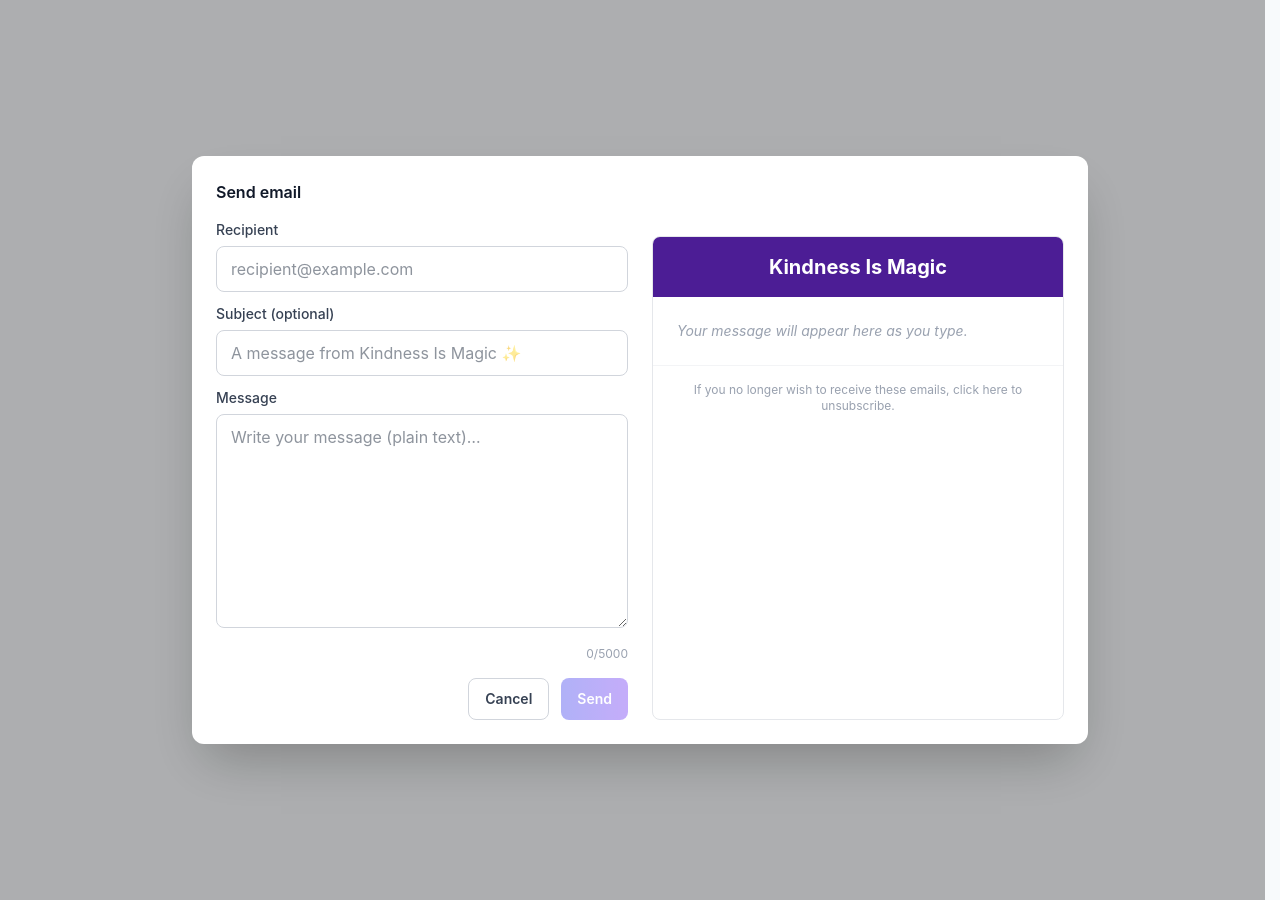
it: AdminEmailComposer › unsubscribed result: info toast explaining the skipped send, and closes
Type "rec@example.com" into the field labelled "Recipient" at (422, 269), box [216, 246, 628, 292]
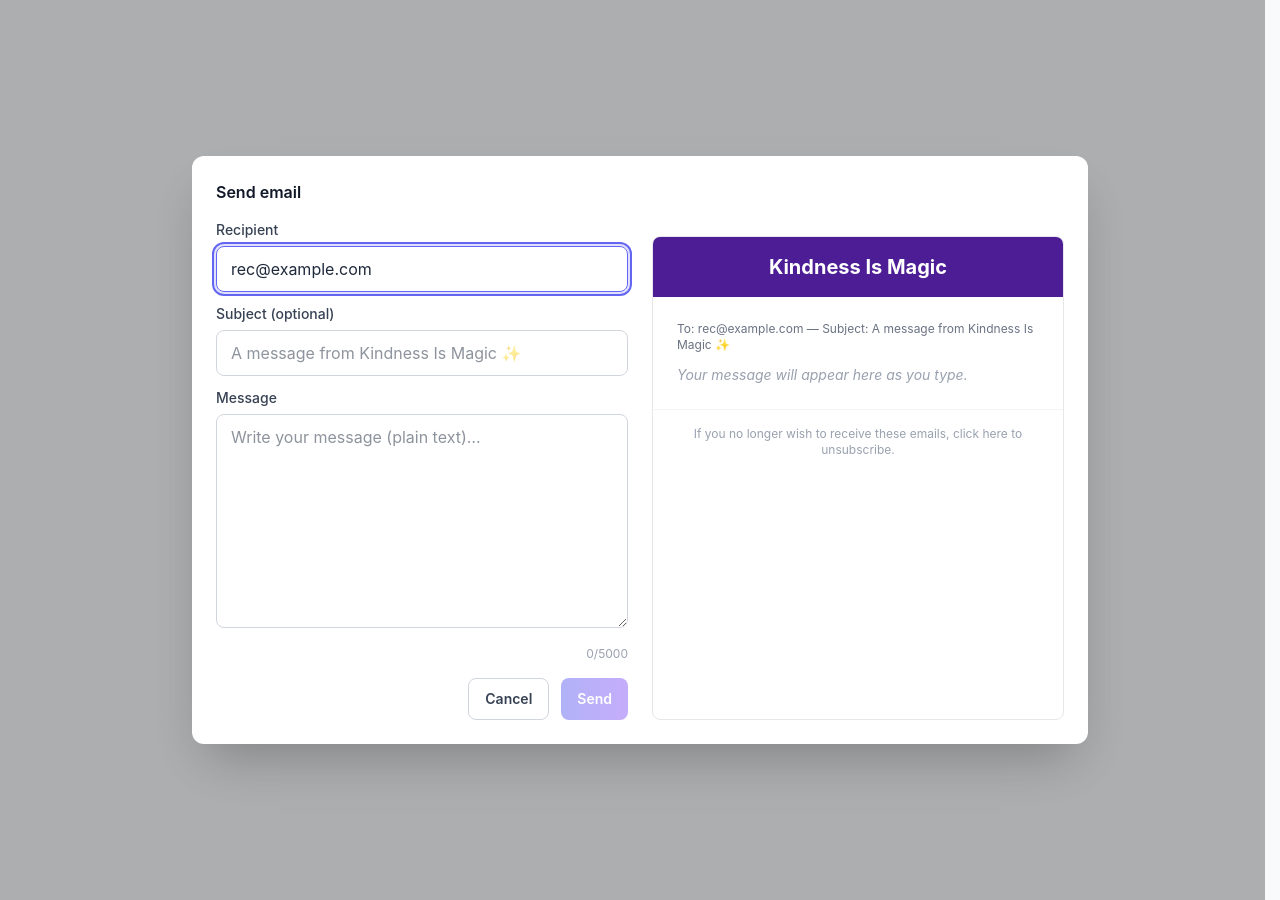
Type "Hi there" into the field labelled "Subject (optional)" at (422, 353), box [216, 330, 628, 376]
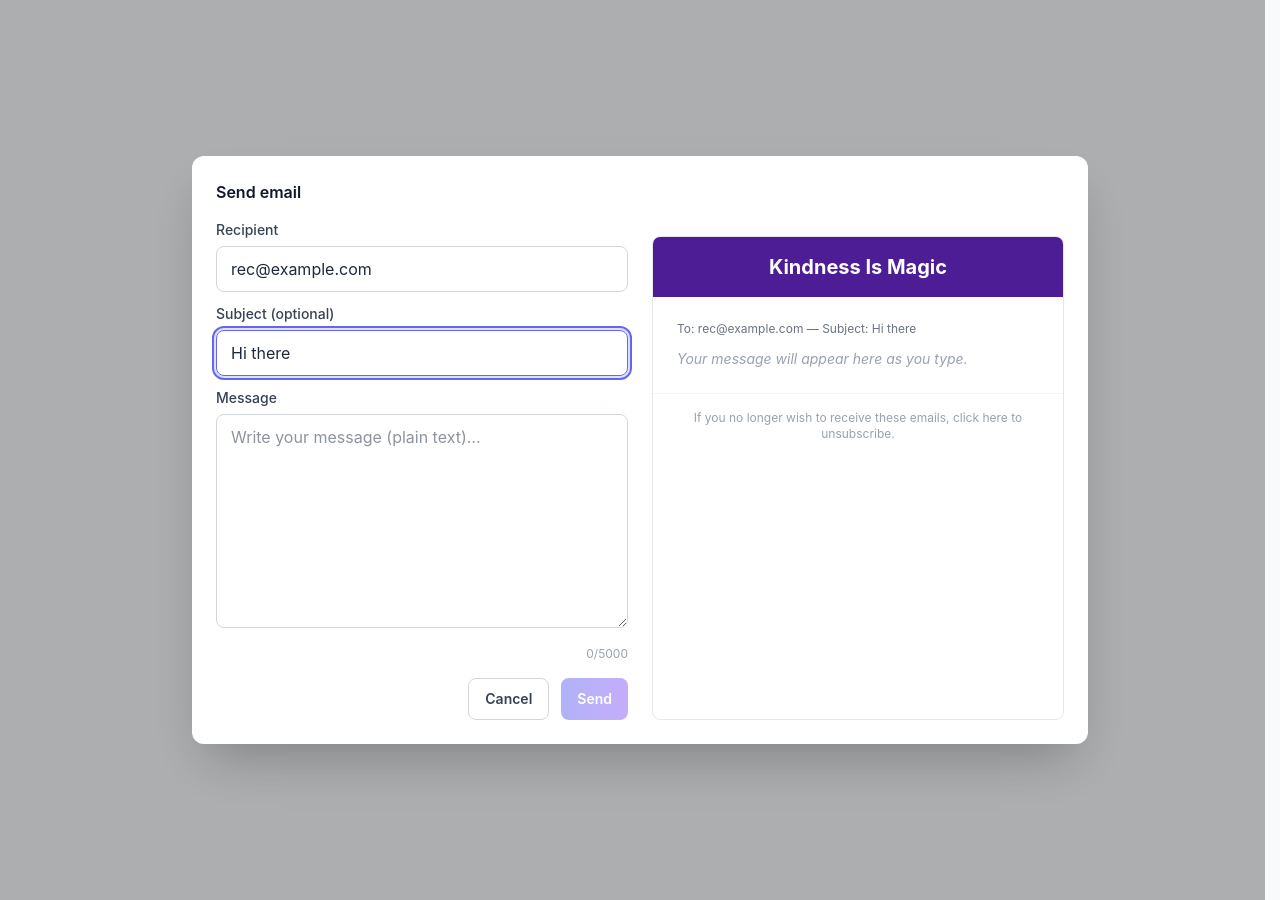
Type "Body text" into the text box labelled "Message" at (422, 521), box [216, 414, 628, 628]
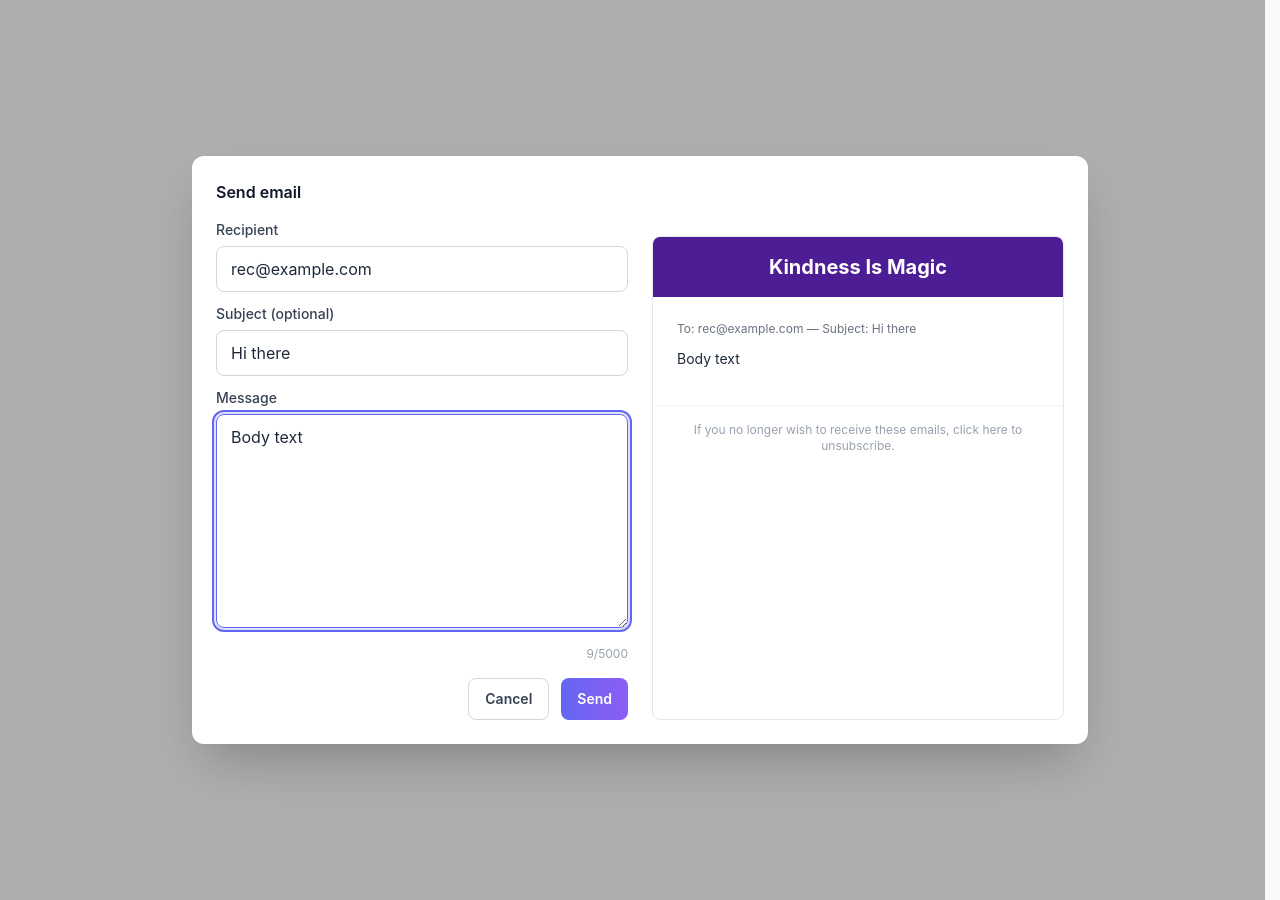
Click the button "Send" at (595, 699), box [561, 678, 628, 720]
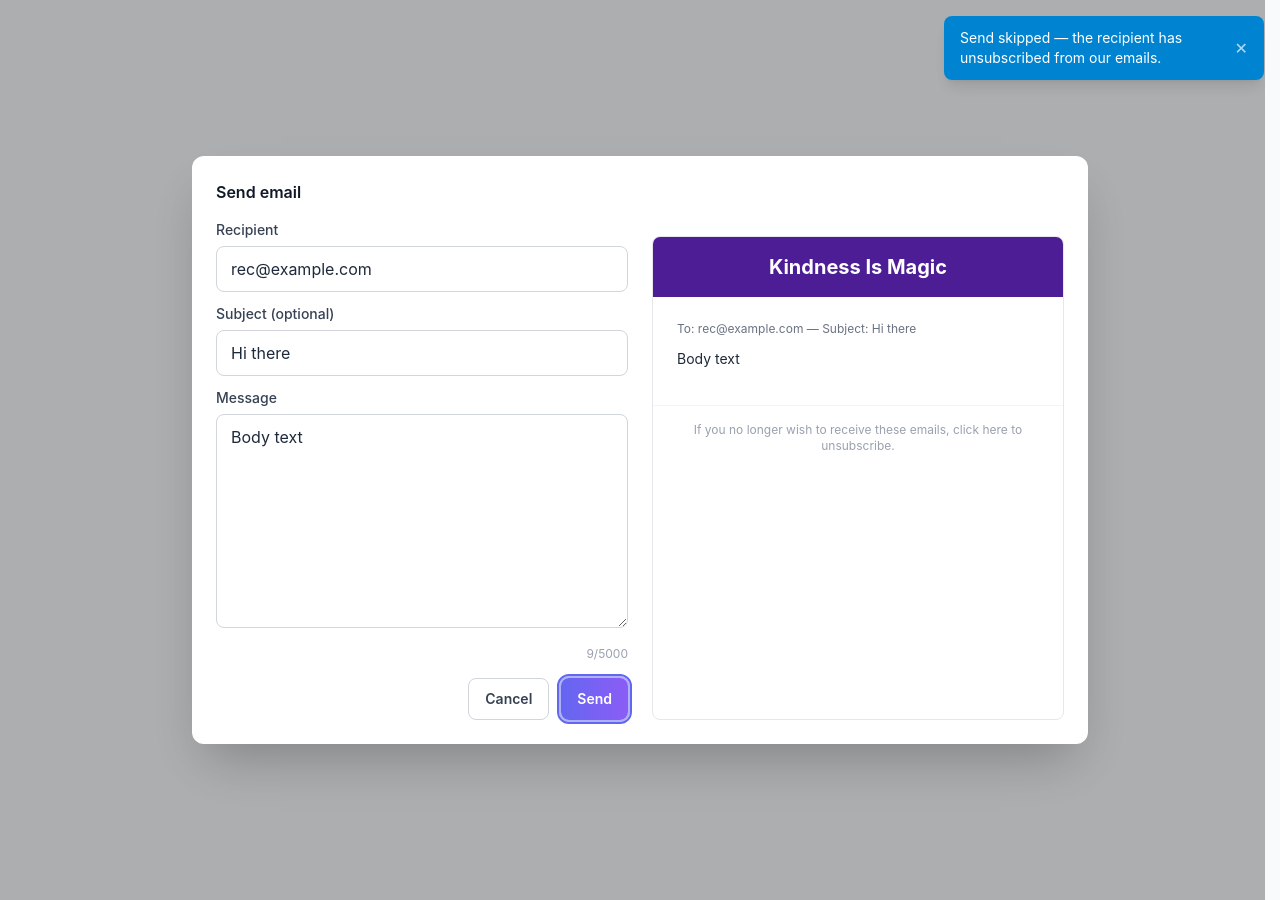
Now the text "Send skipped — the recipient has unsubscribed" is shown, box [960, 29, 1182, 66]
